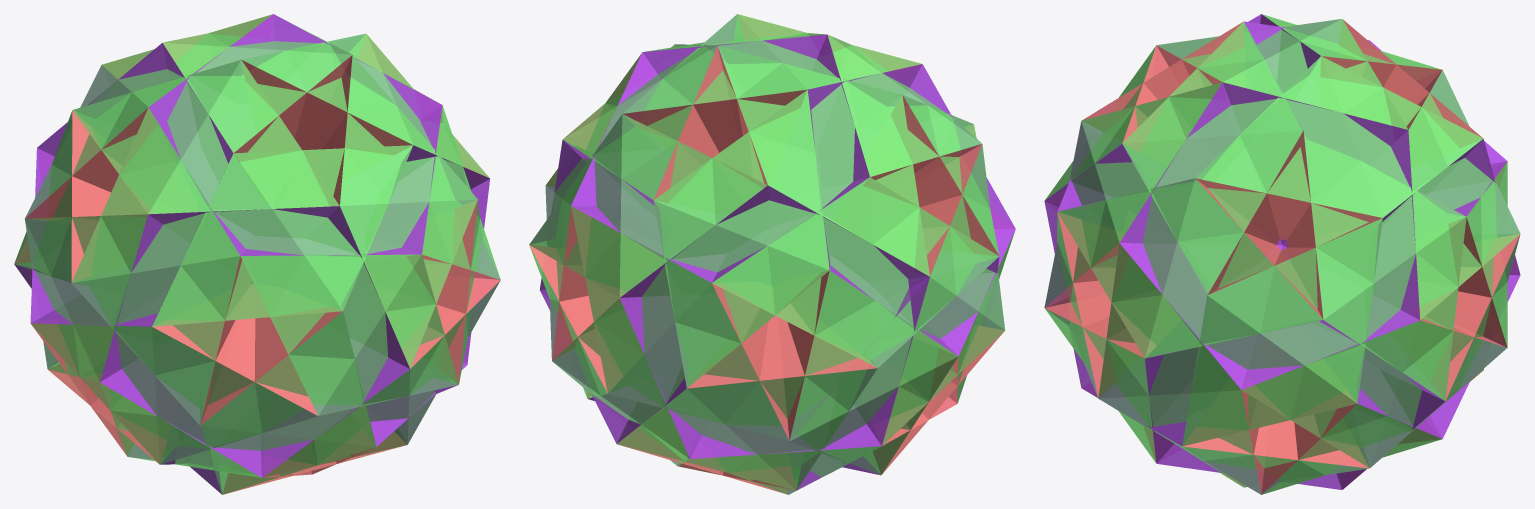
File: 50_Dodekexcavated_Sd.obj
The picture shows the model from 3 angles, left to right: view 1: azimuth 30°, elevation 25°; view 2: azimuth 150°, elevation 25°; view 3: azimuth 270°, elevation 25°; orthographic projection.
Bounding box in the file's own units: 2.48 × 2.48 × 2.48.
